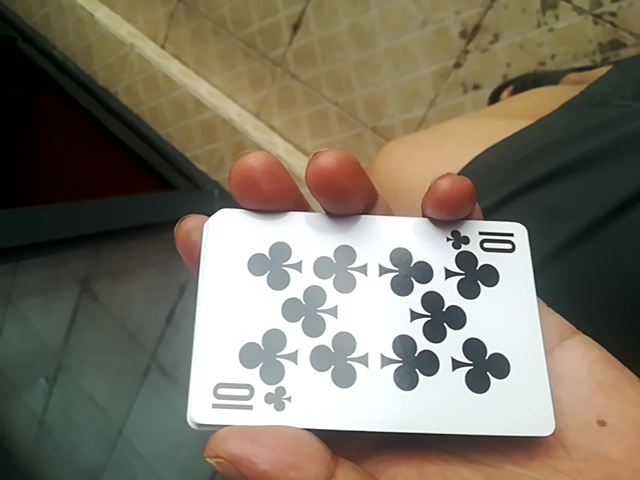mh 10: (172, 206, 555, 437)
